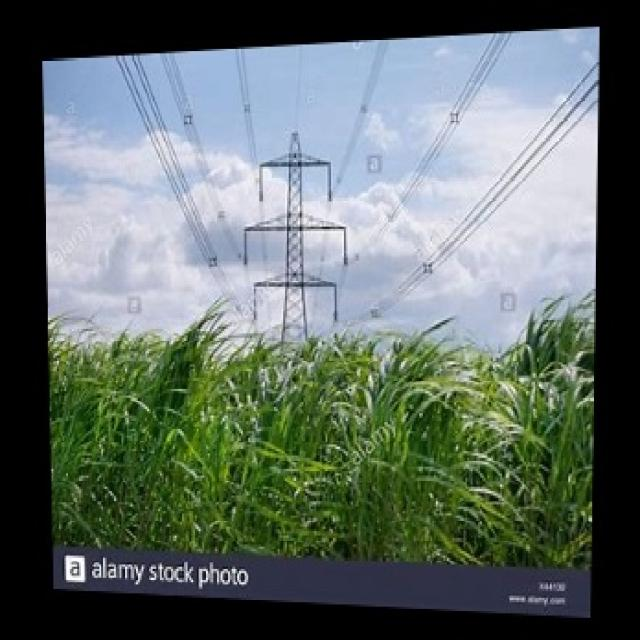utility poles: (229, 118, 361, 555)
